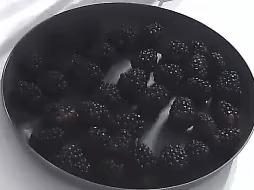berry: (55, 144, 93, 174), (212, 70, 243, 106), (76, 98, 113, 127), (140, 81, 171, 115), (160, 145, 192, 177), (107, 112, 146, 138), (29, 126, 66, 153), (168, 96, 196, 131), (131, 140, 162, 171), (117, 67, 147, 99), (94, 81, 129, 108), (36, 71, 73, 96), (104, 127, 134, 157), (209, 128, 241, 156), (74, 59, 104, 88), (154, 63, 186, 90), (182, 78, 213, 105), (93, 160, 125, 185), (16, 79, 45, 105), (193, 112, 219, 141), (214, 99, 240, 128), (49, 104, 80, 128), (185, 139, 213, 165), (111, 22, 138, 48), (130, 48, 158, 73), (162, 41, 191, 63), (185, 54, 210, 79), (87, 126, 113, 149), (142, 21, 164, 46), (101, 32, 117, 65), (24, 53, 47, 73), (208, 51, 226, 76), (62, 50, 81, 70), (188, 40, 210, 56)
